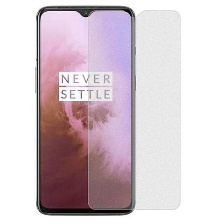phone: (33, 0, 138, 218)
